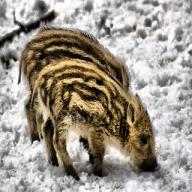boar: (16, 23, 160, 180)
